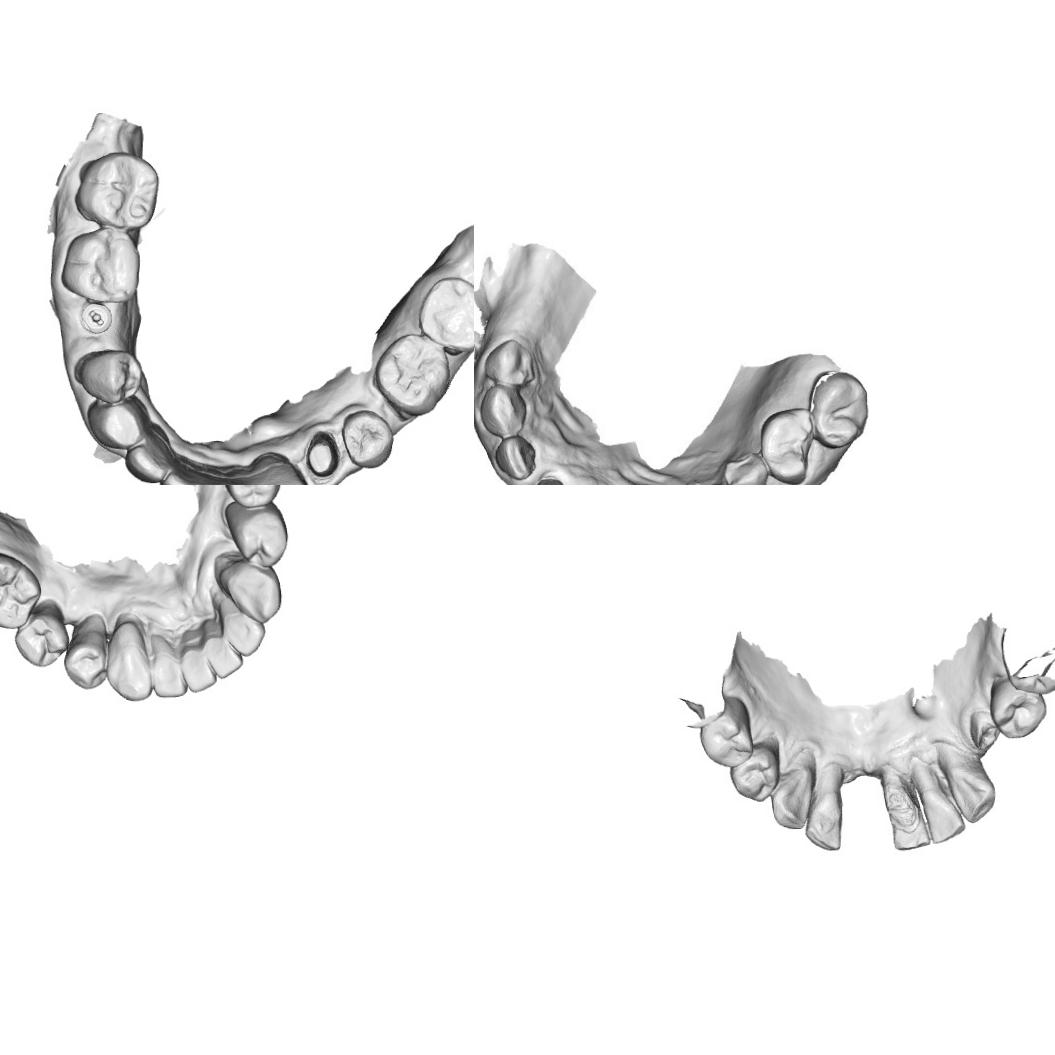canine: (216, 558, 283, 626), (940, 762, 1001, 826), (105, 618, 152, 701), (85, 394, 148, 450), (769, 765, 817, 832), (489, 430, 540, 480), (254, 457, 309, 485)
crown: (301, 427, 344, 480)
implant: (531, 476, 562, 485)
implant_minus: (77, 299, 117, 339)
incisor: (804, 762, 850, 852), (908, 779, 967, 846), (881, 780, 929, 852), (218, 596, 267, 658), (202, 617, 244, 680), (150, 632, 188, 700), (121, 436, 171, 485), (178, 630, 216, 694), (158, 452, 199, 485), (193, 470, 235, 485), (229, 468, 266, 485)
molar: (70, 148, 160, 233), (53, 225, 143, 306), (372, 330, 454, 418), (416, 274, 474, 356), (764, 406, 820, 480), (814, 366, 865, 439), (0, 550, 42, 630)
premolar: (224, 497, 288, 570), (73, 348, 145, 405), (988, 674, 1048, 741), (12, 601, 70, 668), (697, 710, 757, 770), (730, 740, 784, 806), (339, 409, 396, 470), (63, 626, 110, 690), (484, 337, 534, 386), (478, 384, 524, 432), (219, 485, 282, 508), (728, 456, 767, 485)
